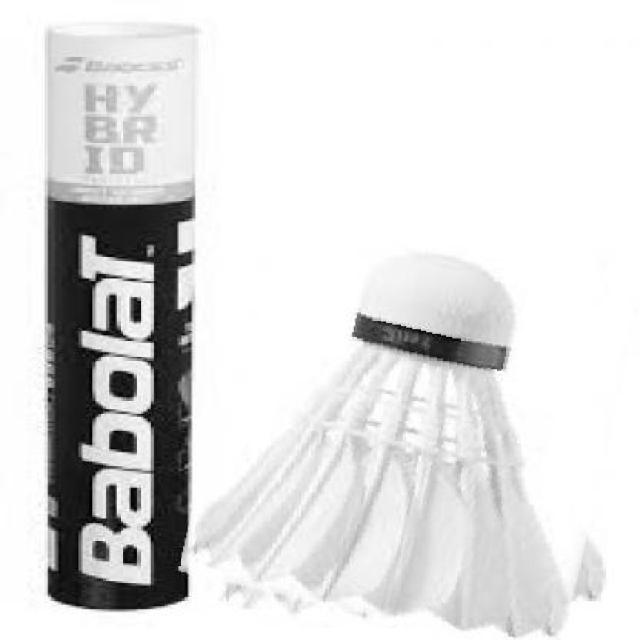Shuttlecock: (197, 227, 624, 640)
